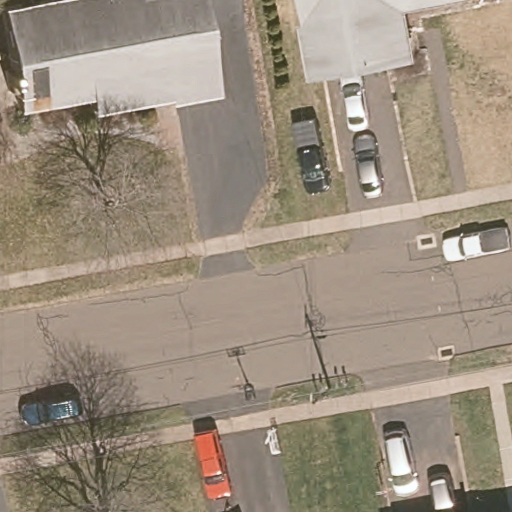DT: (309, 365, 351, 406)
